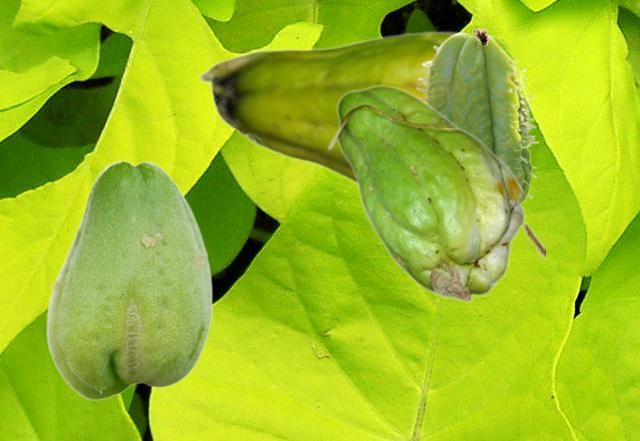sayote: (197, 30, 526, 184), (326, 84, 544, 302), (45, 159, 212, 399), (416, 27, 538, 202)
